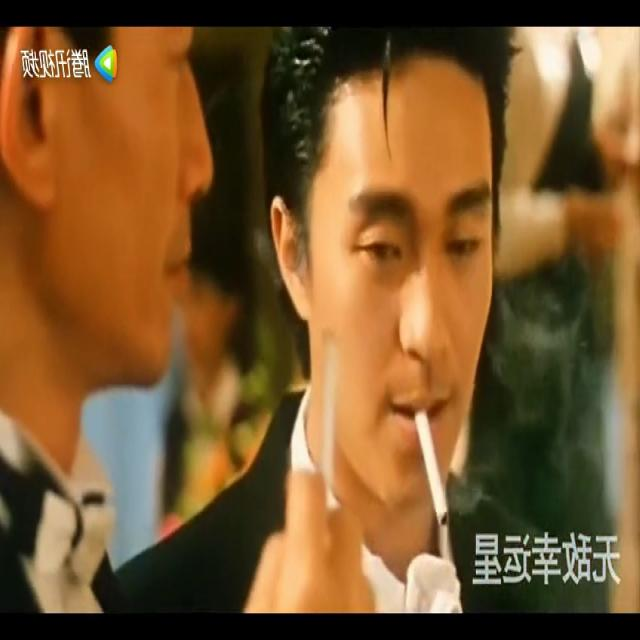smoking: (417, 405, 449, 524), (318, 333, 339, 494)
